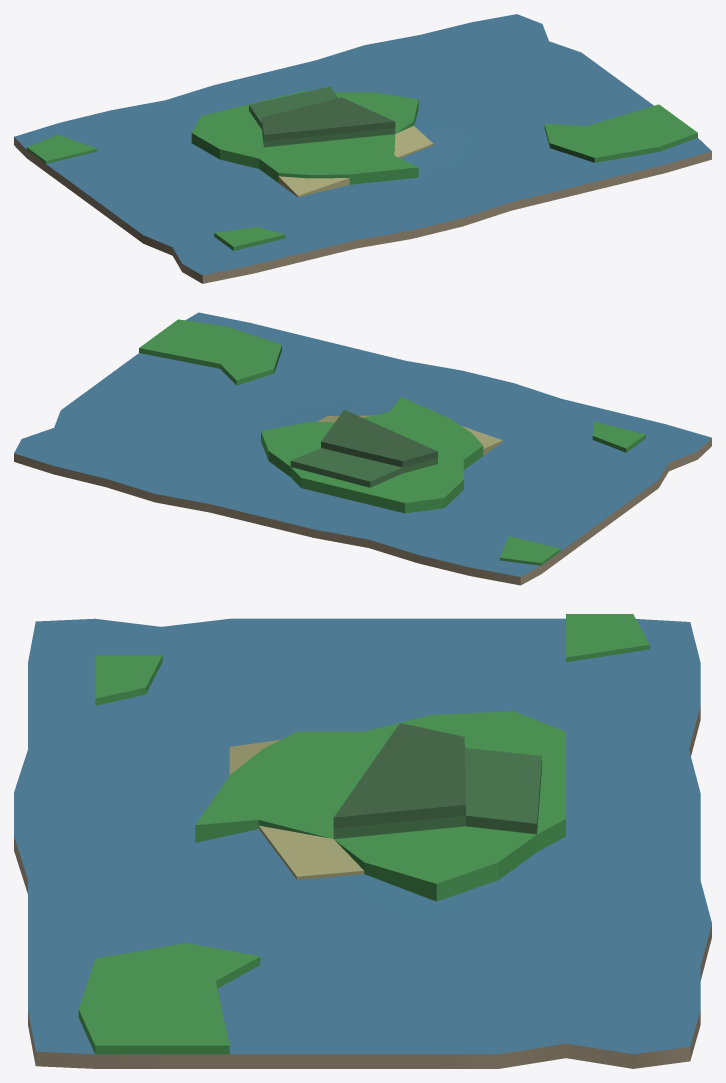
Rendered from Map.fbx.
The picture shows the model from 3 angles, top to bottom: view 1: azimuth 30°, elevation 25°; view 2: azimuth 150°, elevation 25°; view 3: azimuth 270°, elevation 25°; orthographic projection. The views are drawn at different scales.
Parts seen in each view (by area): view 1: pCube1; view 2: pCube1; view 3: pCube1.
Part boxes in pixels (x1,y1,x2,y2): pCube1: (14, 14, 711, 283); pCube1: (14, 312, 711, 585); pCube1: (14, 614, 711, 1068).
Bounding box in the file's own units: 0.1458 × 0.00842 × 0.0987.
